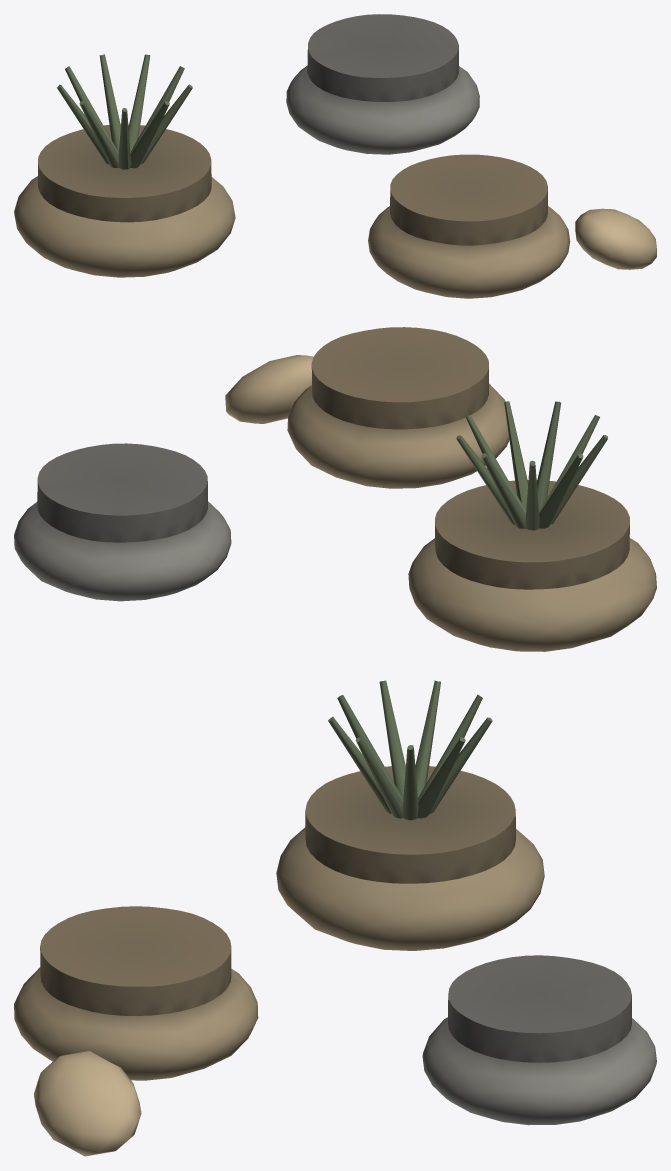
Rendered from dish_stones_c.glb.
3 views of the same model, one above another, from view 1: azimuth 30°, elevation 25°; view 2: azimuth 150°, elevation 25°; view 3: azimuth 270°, elevation 25° (orthographic). The views are drawn at different scales.
Parts seen in each view (by area): view 1: Surface; view 2: Surface; view 3: Surface.
Boxes of the visible parts, x1=… form: Surface: x1=14, y1=14, x2=656, y2=298; Surface: x1=14, y1=327, x2=656, y2=651; Surface: x1=14, y1=680, x2=656, y2=1156.
Size of the model in its own units: 2.14 by 0.7366 by 1.99.
